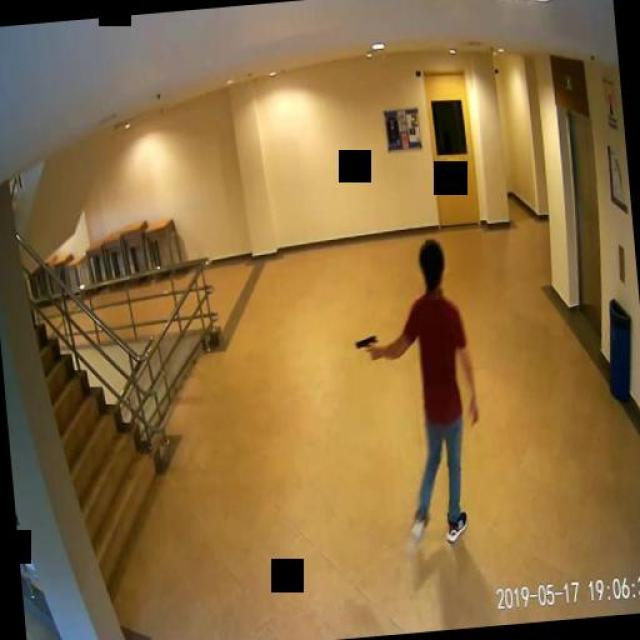gun: (352, 332, 378, 360)
